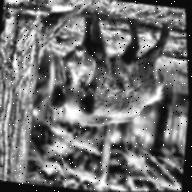boar: (33, 0, 191, 153)
